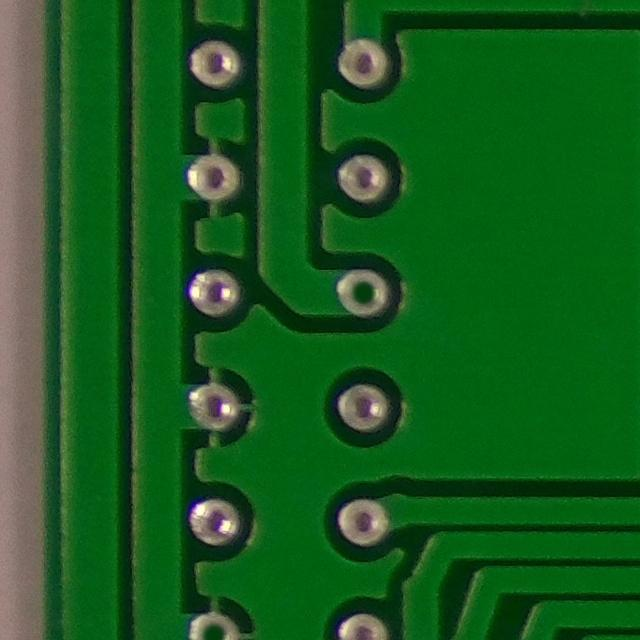missing_hole: (326, 262, 402, 324), (177, 604, 250, 640)
